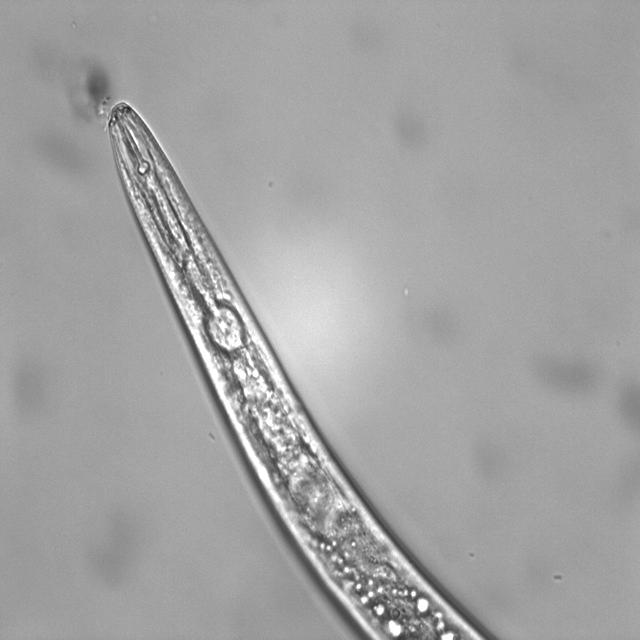Pratylenchus: (97, 93, 516, 640)
